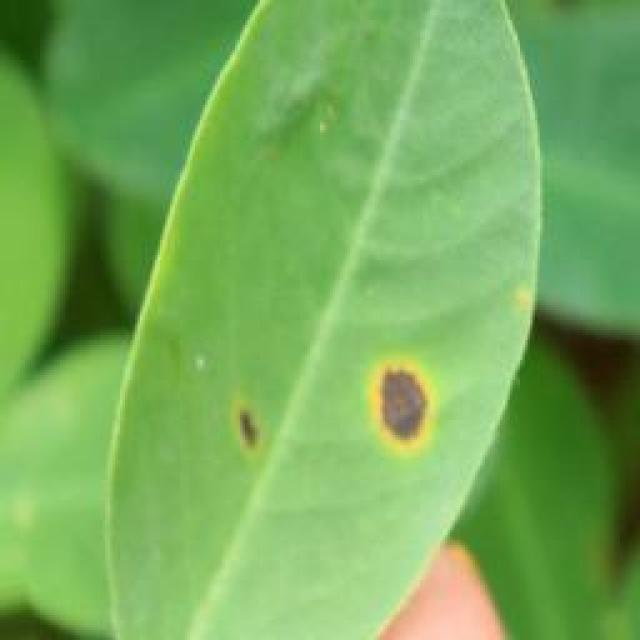Sigatoka: (330, 332, 440, 454), (212, 382, 266, 470)
